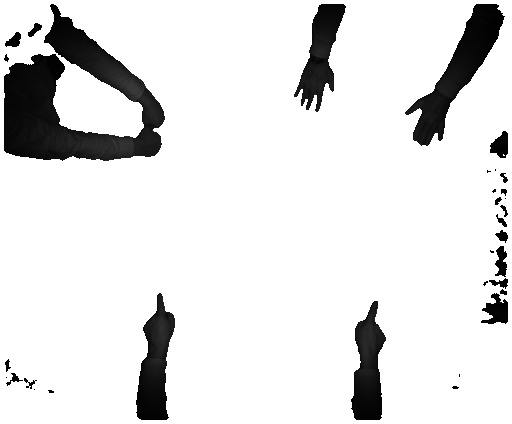fist: (136, 129, 167, 159), (141, 101, 167, 131)
hand: (400, 96, 452, 151), (352, 296, 391, 361), (137, 288, 175, 353), (288, 62, 335, 111)
